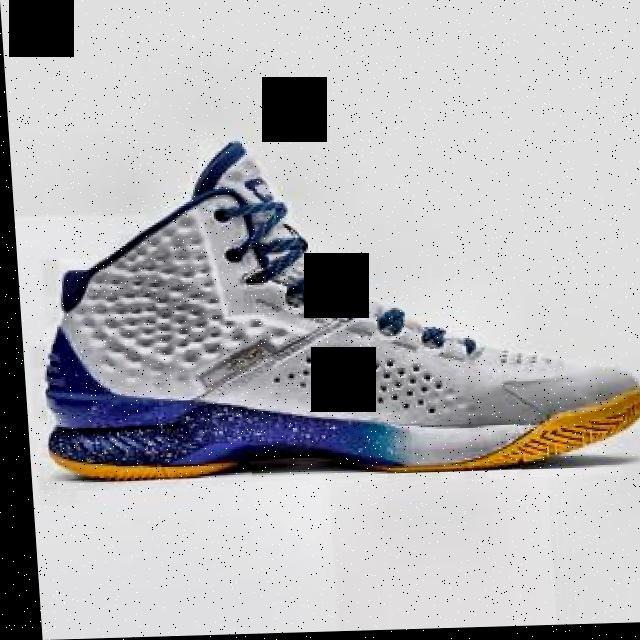shoe: (26, 128, 640, 484)
